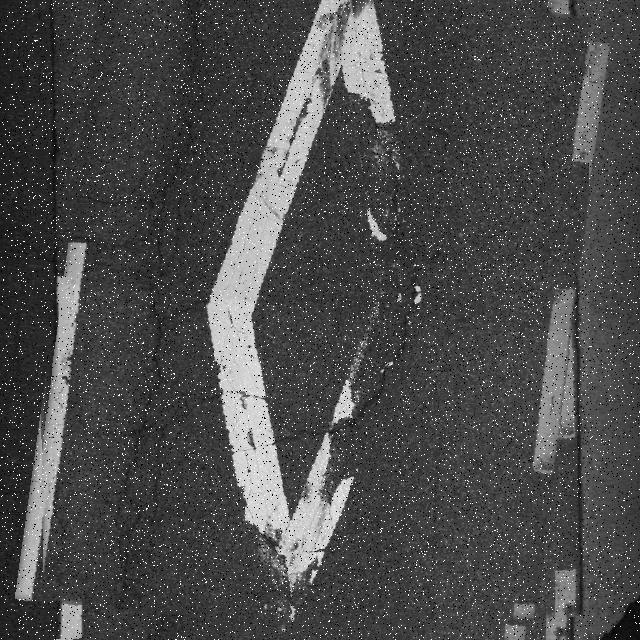diamond: (35, 0, 589, 640)
